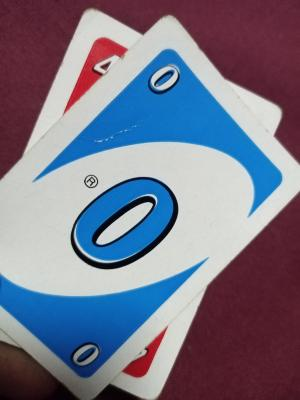blue: (65, 133, 189, 298)
num_0: (65, 335, 103, 370), (145, 64, 184, 96)
